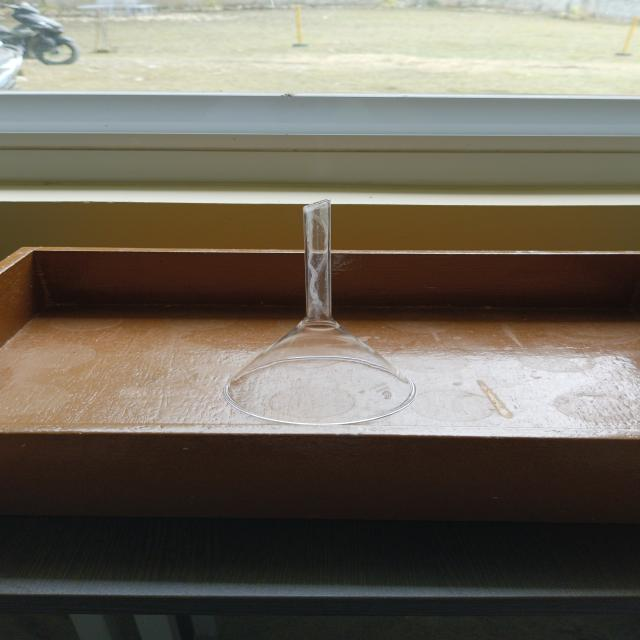funnel: (206, 197, 435, 428)
